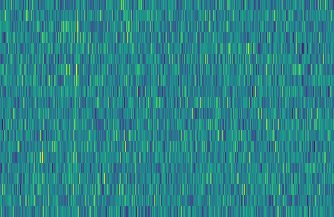signal: (65, 0, 80, 217)
